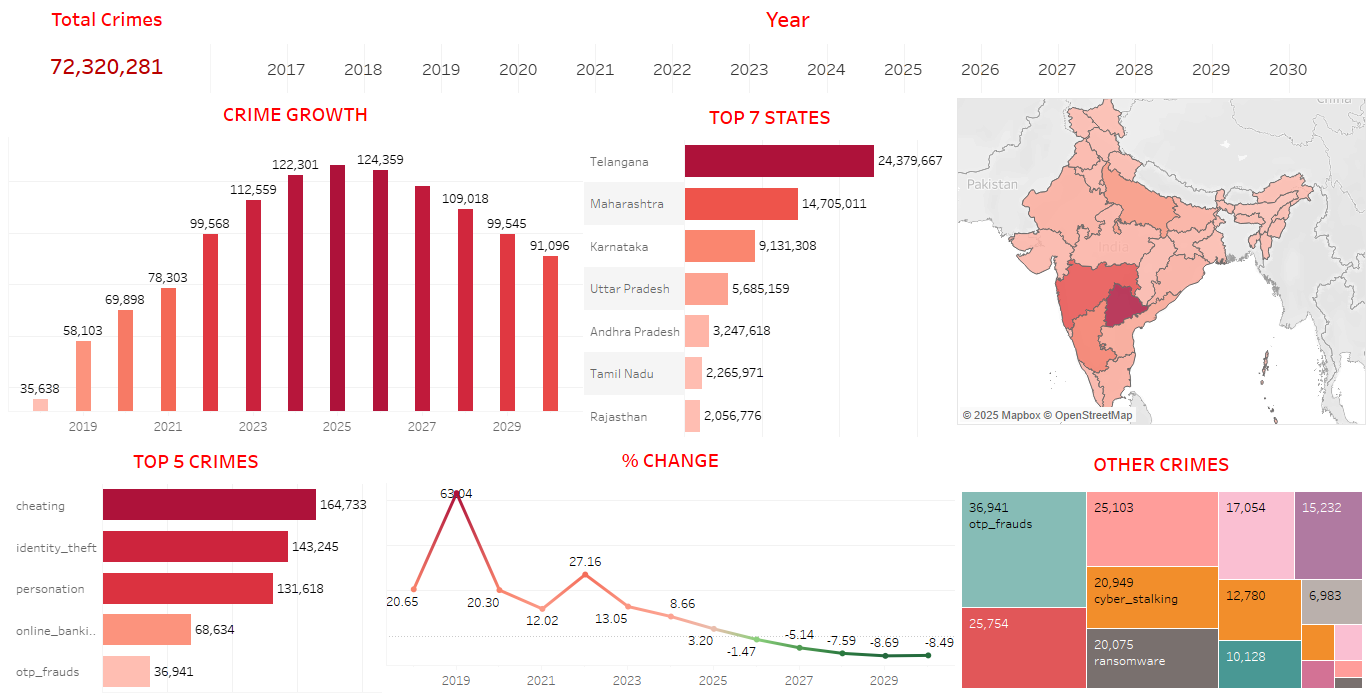

The dashboard page shown, as its layout file describes it:
{"tool":"tableau","page":{"name":"Dashboard","canvas":[1000,1000],"units":"permille","ordinal":0},"visuals":[{"type":"worksheet","title":"Years","mark":"Text","cols":["year"],"box":[153.7,3.6,846.3,134.1]},{"type":"worksheet","title":"Total","mark":"Automatic","box":[8.2,5.4,140.3,126.8]},{"type":"worksheet","title":"Crime Count","mark":"Bar","rows":["total_crimes"],"cols":["year"],"box":[6.1,141.3,421.2,489.1]},{"type":"worksheet","title":"Map","mark":"Multipolygon","box":[700.4,144.9,299.6,483.7]},{"type":"worksheet","title":"Top 7 States","mark":"Automatic","rows":["state_name"],"cols":["total_crimes"],"box":[427.4,146.7,272.6,483.7]},{"type":"worksheet","title":"% Change","mark":"Automatic","rows":["Calculation_797418647945875456"],"cols":["year"],"box":[282.8,637.7,416.4,362.3]},{"type":"worksheet","title":"Crime Categories","mark":"Automatic","rows":["crime_category"],"cols":["crime_count"],"box":[7,639.5,272.3,358.7]},{"type":"worksheet","title":"CHART","mark":"Automatic","box":[700.5,643.1,299.5,353.3]}]}

Visuals, with their boxes on the dashboard's canvas, which has no fixed pixel size, in thousandths of its width and height (x1, y1, x2, y2). These are canvas units, not pixel positions in the 1366x693 screenshot, which may show the page scaled, cropped or inside an application window:
"Years" worksheet (Text marks): [154,4,1000,138]
"Total" worksheet: [8,5,148,132]
"Crime Count" worksheet (Bar marks): [6,141,427,630]
"Map" worksheet (Multipolygon marks): [700,145,1000,629]
"Top 7 States" worksheet: [427,147,700,630]
"% Change" worksheet: [283,638,699,1000]
"Crime Categories" worksheet: [7,640,279,998]
"CHART" worksheet: [700,643,1000,996]
